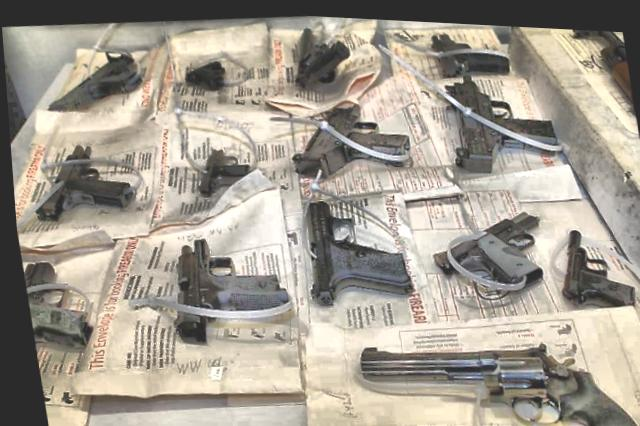pistol: (354, 306, 640, 426), (139, 221, 294, 347), (294, 180, 419, 316), (425, 195, 552, 301), (18, 131, 131, 234), (17, 246, 115, 353), (553, 215, 640, 315), (272, 17, 363, 97), (187, 127, 252, 215), (181, 53, 236, 94)
